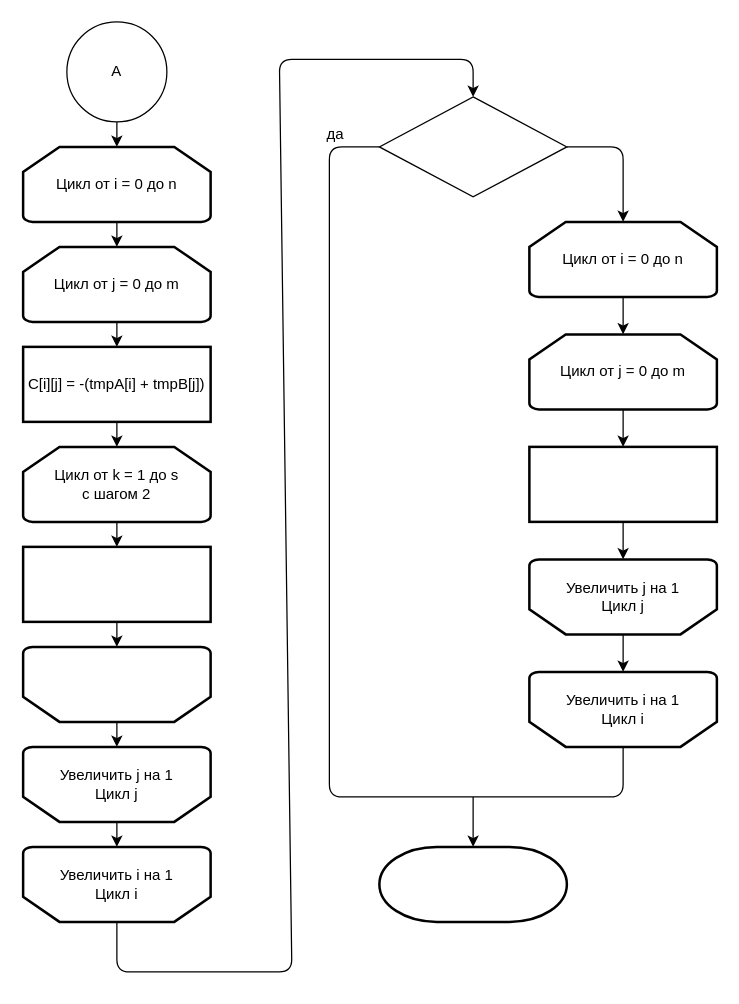
Image size: 739x1004. Some labels were removed from this diagram. Here are the shapes that lost their labels. From the top down, the centre of each, then its label:
At [472,146]: "s четное?".
At [623,483]: "C[i][j] = C[i][j] + (A[i][q-1] + B[q -1][j])".
At [116,583]: "C[i][j] = C[i][j] + (A[i][k-1] + B[k][j])* (A[i][k] + B[k-1][j[)".
At [116,683]: "Увеличить k на 1 Цикл k".
At [473,883]: "Конец".
